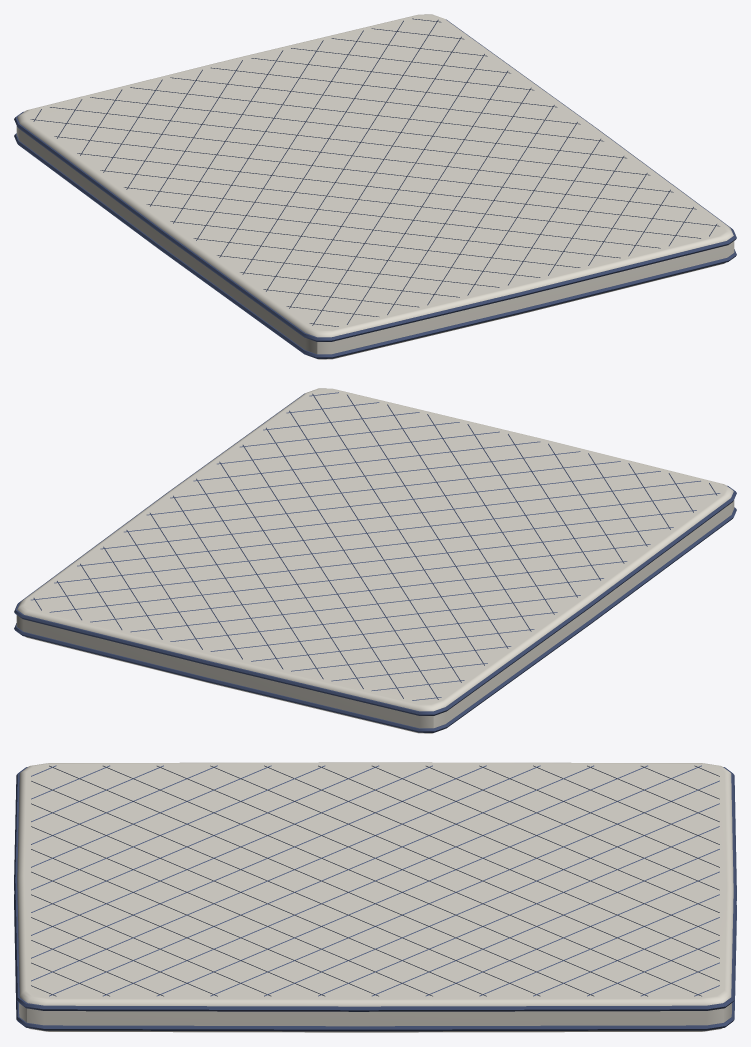
The model's file is nem_cao_su_160.mid.glb.
3 renders of one model, top to bottom at view 1: azimuth 30°, elevation 25°; view 2: azimuth 150°, elevation 25°; view 3: azimuth 270°, elevation 25°, orthographic. The views are drawn at different scales.
Visible parts, largest first — view 1: nem_cao_su_160; view 2: nem_cao_su_160; view 3: nem_cao_su_160.
Part boxes in pixels (left/top/right/bottom): nem_cao_su_160: left=14, top=14, right=736, bottom=359; nem_cao_su_160: left=14, top=388, right=736, bottom=733; nem_cao_su_160: left=14, top=762, right=736, bottom=1032.
Bounding box in the file's own units: 1.62 × 0.1018 × 2.02.
